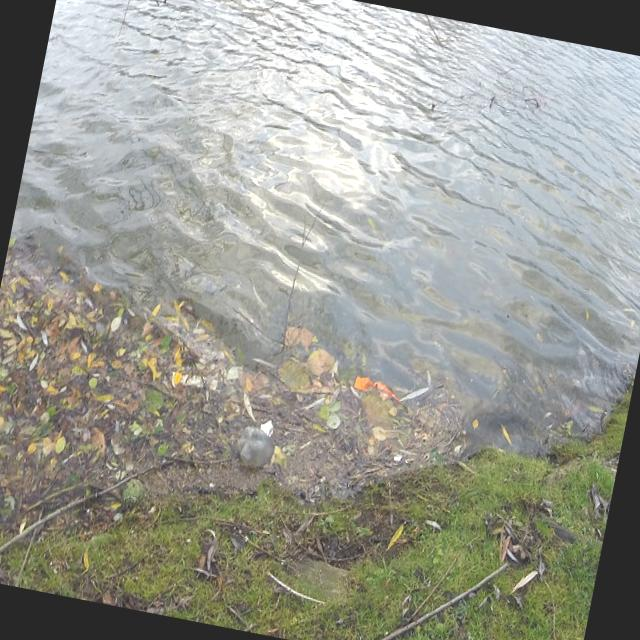Recycle: (233, 419, 287, 479)
